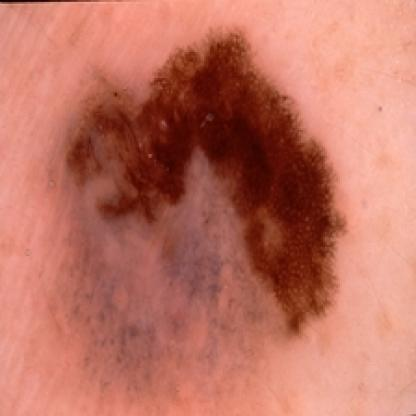Skin_Cancer-Malignant: (63, 26, 350, 341)
